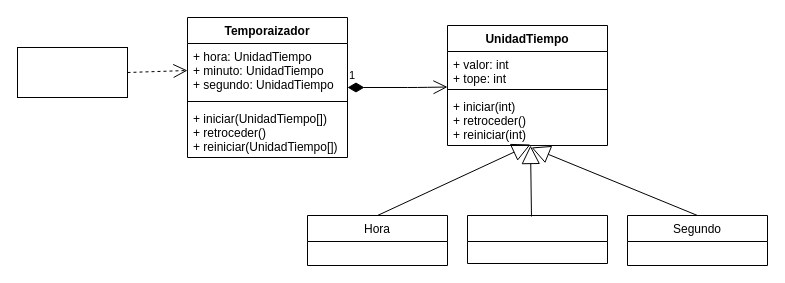
This 785x283 diagram has some shape labels left out. The shapes that lost their labels are listed below. From the top down, each one's centre as x and y in pixels, then its label:
At point (72, 72): "Cliente".
At point (537, 239): "Minuto".
